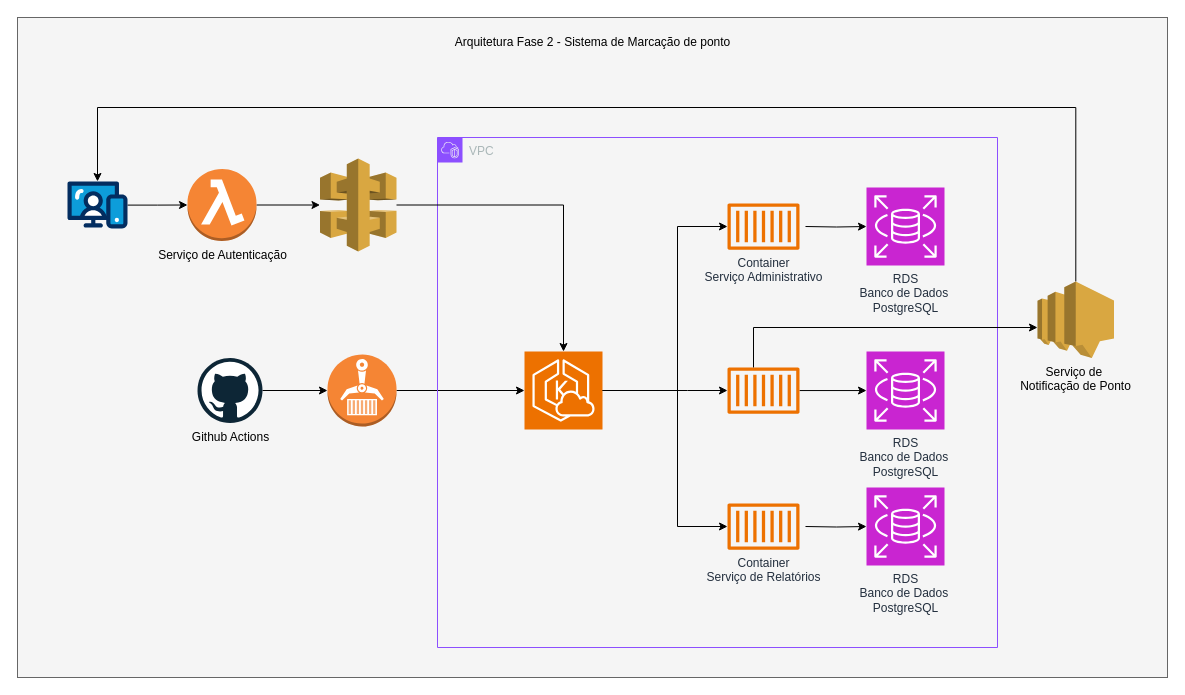
The diagram is 1185 pixels wide and 695 high, and some of its shapes have lost their labels. Here are the shapes that lost their labels. From the top down, the centre of each, then its label:
(97,204): User
(357,205): API Gateway
(361,390): Elastic Container Registry
(563,390): EKS Kubernetes Cluster
(763,390): Container Serviço de Ponto
